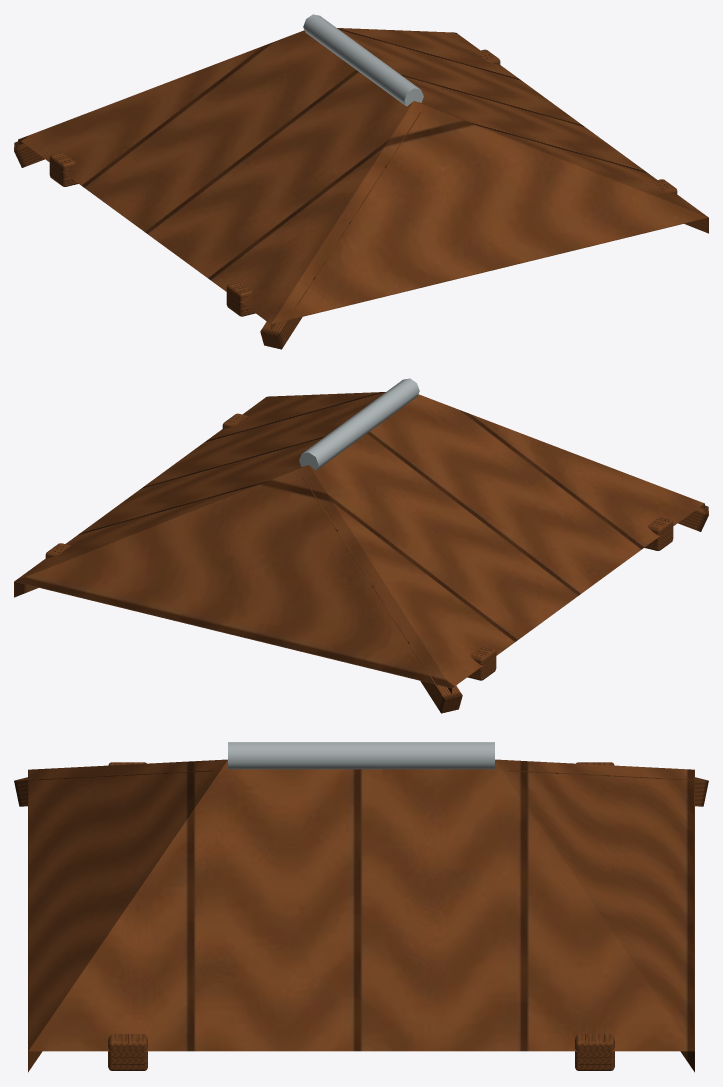
The model's file is roadside-survival-stops-pump-canopy-corner-4c17359e.glb.
The picture shows the model from 3 angles, top to bottom: view 1: azimuth 30°, elevation 25°; view 2: azimuth 150°, elevation 25°; view 3: azimuth 270°, elevation 25°; orthographic projection. The views are drawn at different scales.
Visible parts, largest first — view 1: pump-canopy-corner; view 2: pump-canopy-corner; view 3: pump-canopy-corner.
Boxes of the visible parts, x1,y1,x2,y2 form: pump-canopy-corner: (14, 14, 708, 349); pump-canopy-corner: (14, 378, 708, 713); pump-canopy-corner: (14, 742, 708, 1072).
Size of the model in its own units: 2.03 by 0.6618 by 2.08.
2 materials, 1 textured.
